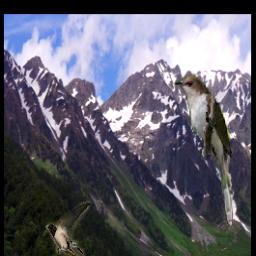Cuckoo: (173, 75, 234, 227)
Swallow: (45, 203, 90, 256)
